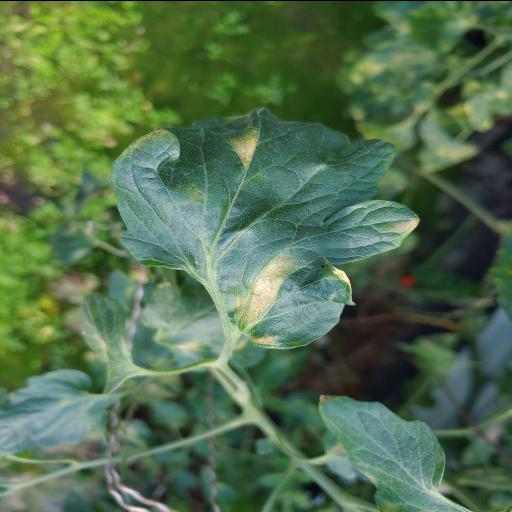Leaf Mold: (109, 108, 419, 348)
